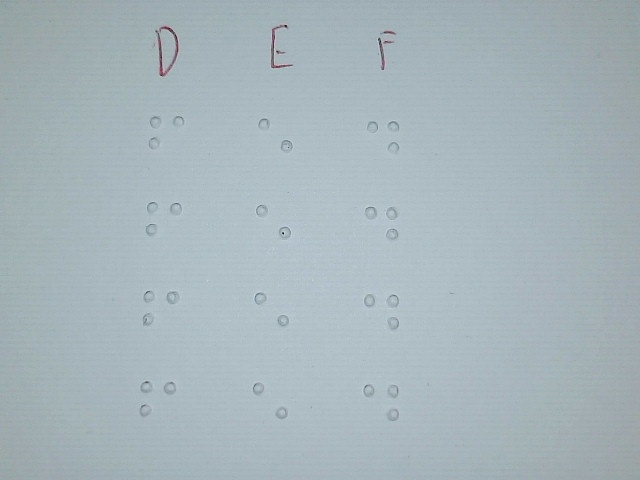D: (364, 106, 402, 176), (363, 192, 401, 262), (362, 278, 400, 348), (362, 369, 400, 439)
E: (257, 102, 295, 172), (255, 191, 293, 261), (253, 279, 291, 349), (251, 370, 289, 440)
F: (147, 100, 185, 174), (145, 187, 183, 261), (142, 275, 180, 349), (139, 364, 177, 438)
